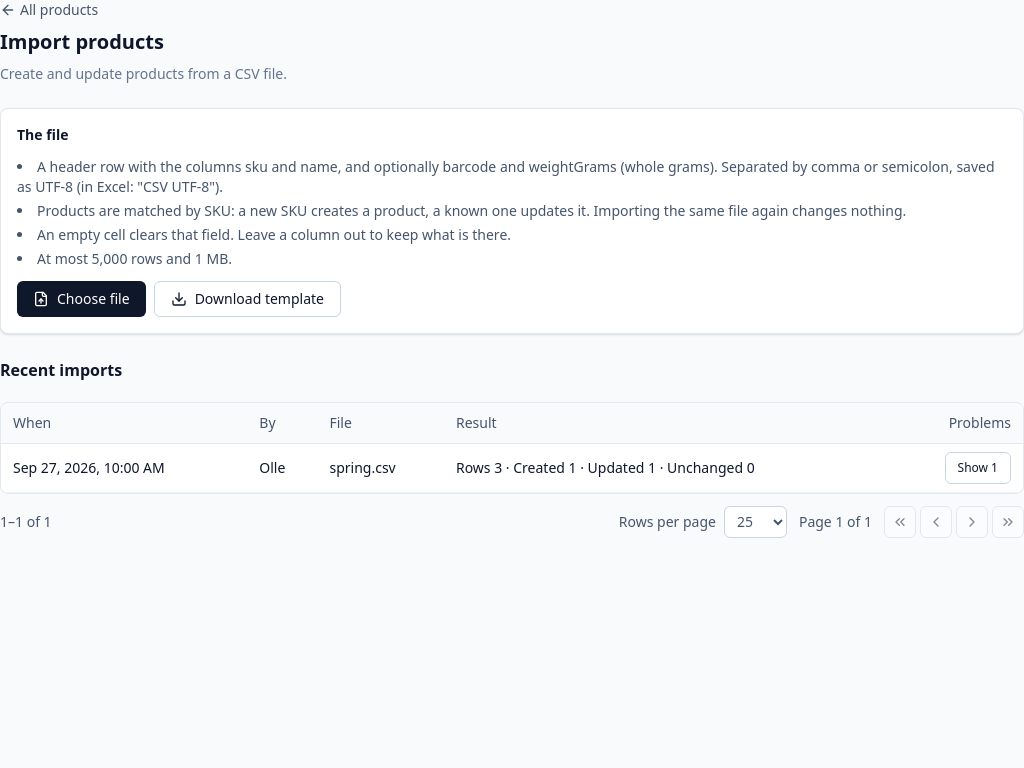
the product import page › lists past imports, and a run’s problems open in a dialog
Expected: the text "spring.csv" is shown, x1=317 y1=444 x2=444 y2=492
Expected: the text "Olle" is shown, x1=247 y1=444 x2=318 y2=492
Click the button "Show 1" at x=978, y=468, box x1=944 y1=452 x2=1011 y2=484
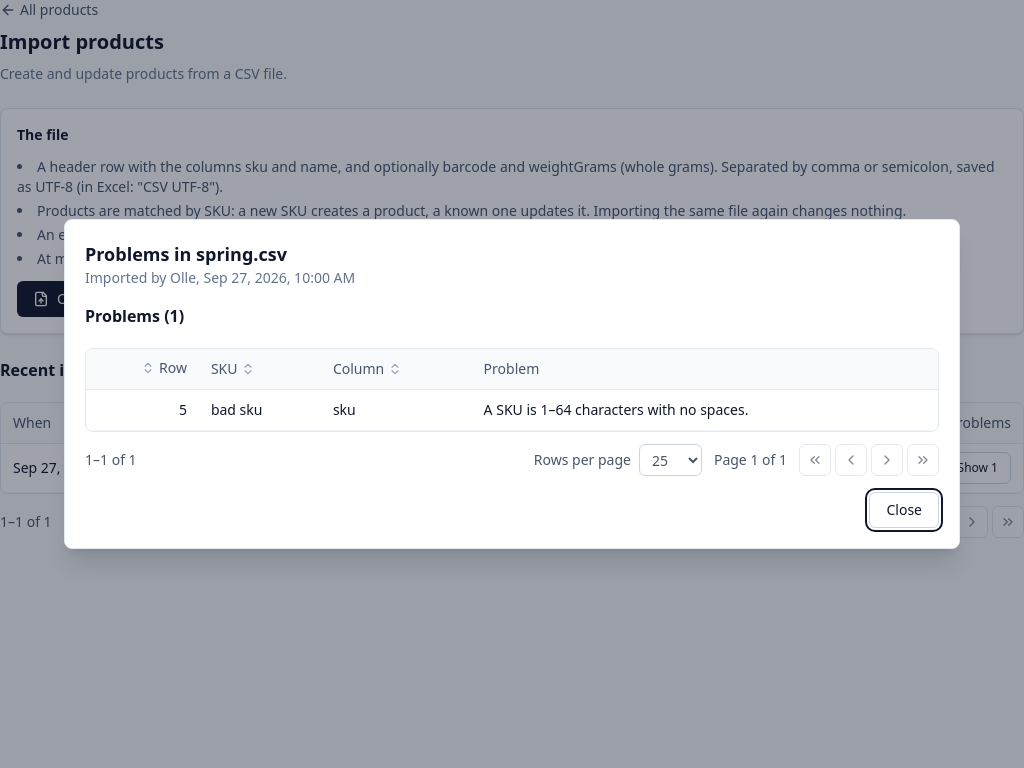
Result: the text "bad sku" is shown at x1=199 y1=390 x2=321 y2=430
